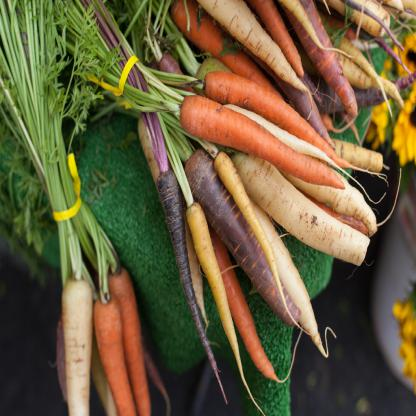Carrot: (203, 73, 390, 184), (181, 94, 344, 189), (211, 231, 301, 387), (170, 0, 285, 100), (106, 264, 154, 416), (96, 299, 137, 415)
